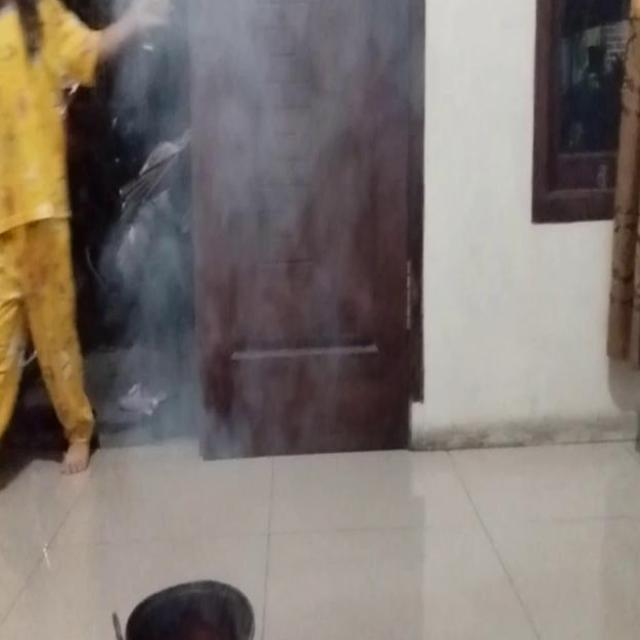fire: (122, 0, 360, 436)
